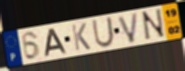6: (20, 31, 42, 61)
A: (44, 28, 69, 58)
K: (70, 22, 92, 52)
N: (140, 7, 167, 42)
U: (91, 16, 116, 49)
V: (116, 12, 140, 45)
